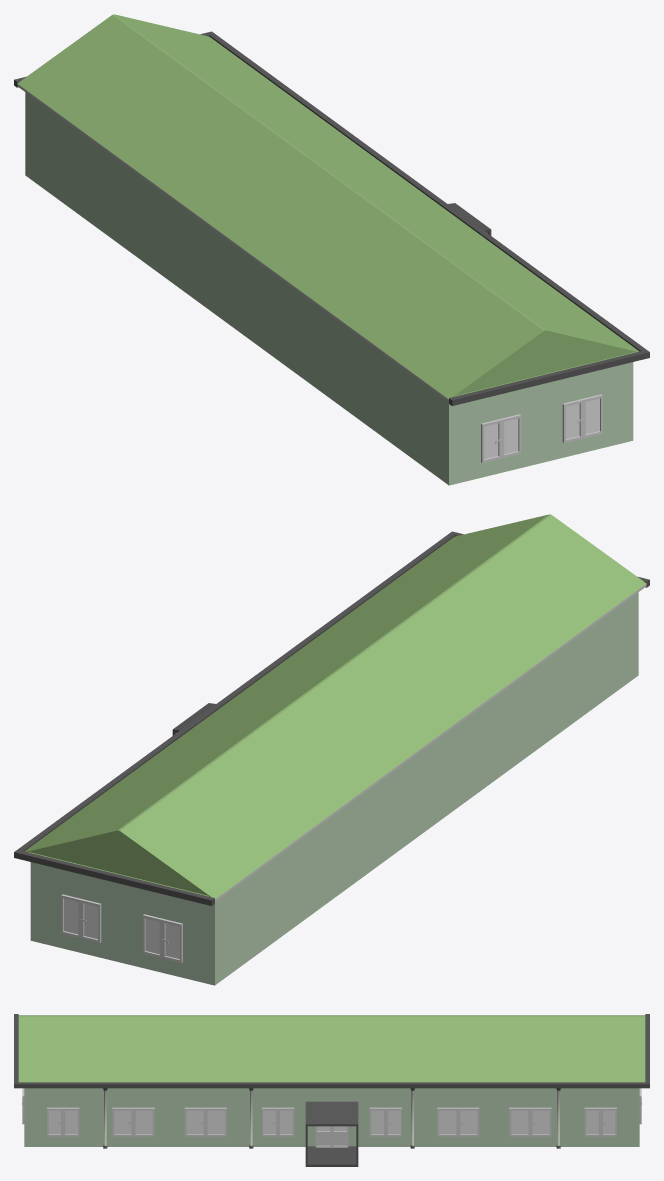
3 views of the same model, one above another, from view 1: azimuth 30°, elevation 25°; view 2: azimuth 150°, elevation 25°; view 3: azimuth 270°, elevation 25° (orthographic). The views are drawn at different scales.
Parts seen in each view (by area): view 1: Ev_01; view 2: Ev_01; view 3: Ev_01.
Boxes of the visible parts, bbox=[...] form: Ev_01: bbox=[14, 14, 649, 485]; Ev_01: bbox=[14, 514, 649, 985]; Ev_01: bbox=[14, 1014, 649, 1166].
Size of the model in its own units: 979 by 534 by 3094.
